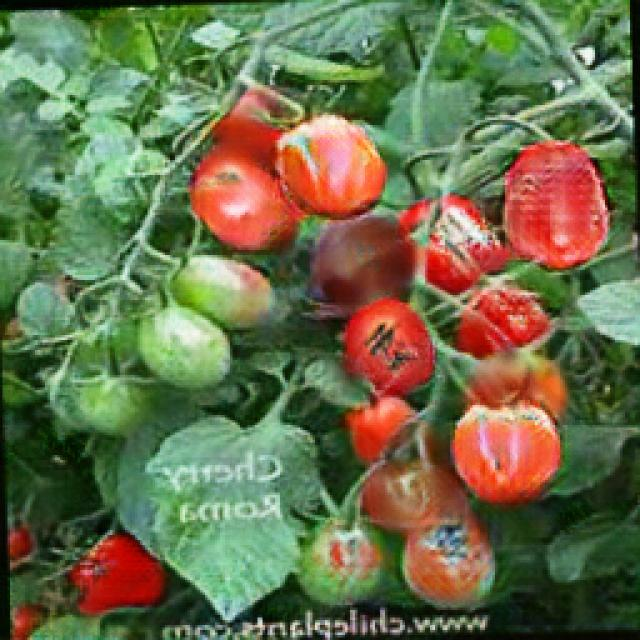overripe tomato: (507, 143, 611, 268), (272, 114, 377, 221), (457, 402, 559, 508), (183, 155, 290, 255), (396, 187, 499, 290), (403, 518, 492, 608)
